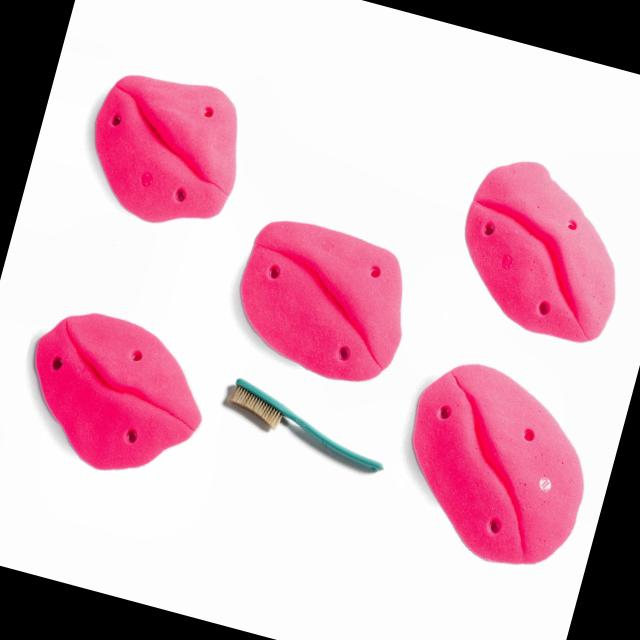Hold: (386, 342, 612, 582), (209, 189, 441, 408), (0, 287, 220, 488), (438, 137, 640, 348), (77, 54, 264, 234)
